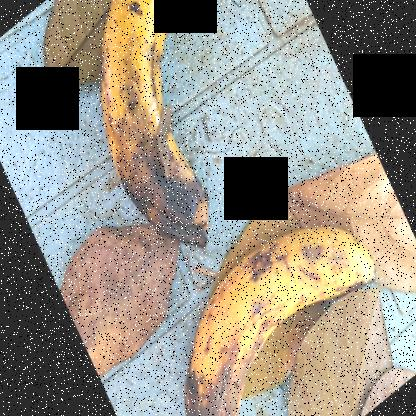overripe: (206, 217, 382, 376), (82, 1, 196, 140)
rotten: (94, 95, 224, 270), (173, 332, 261, 416)
